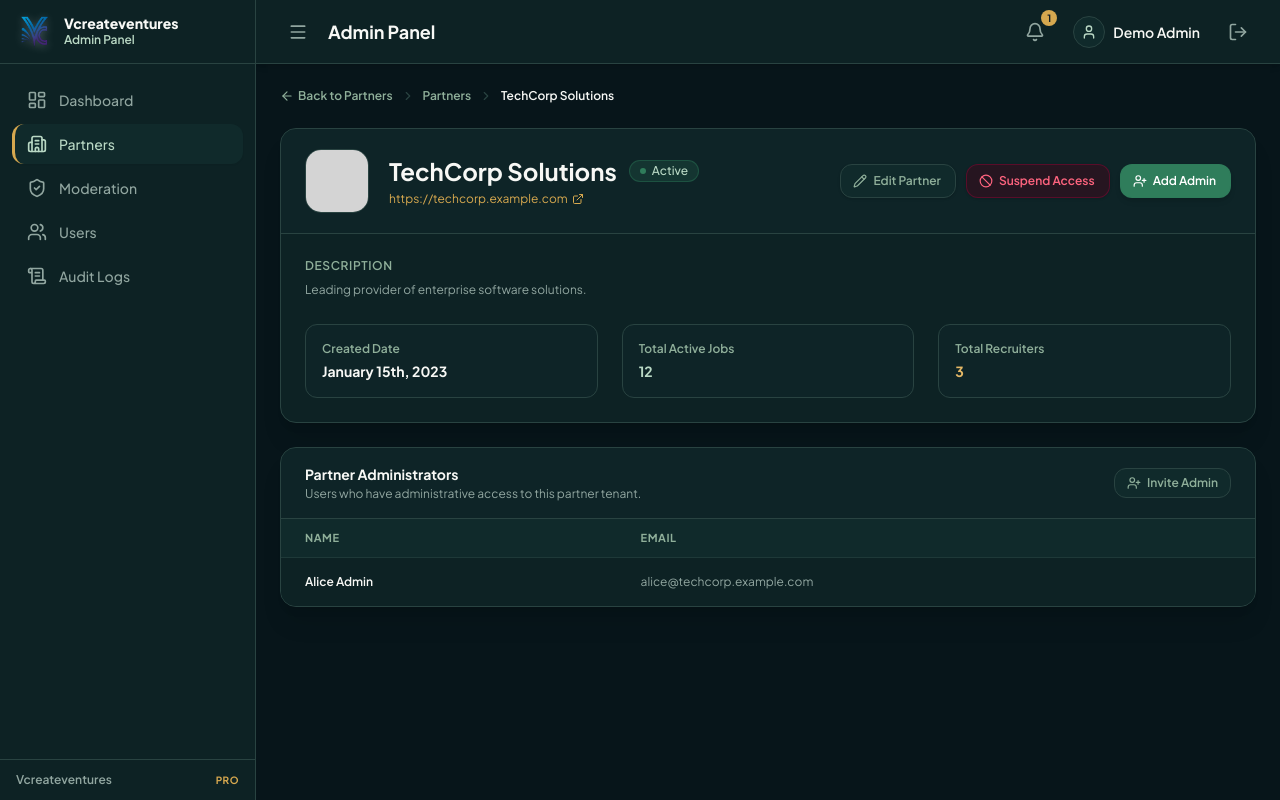
it: routes rendering test › shows backend validation details when a partner admin email already exists
Click the button "Add Admin".
click(1175, 181)  # box [1120, 164, 1231, 198]
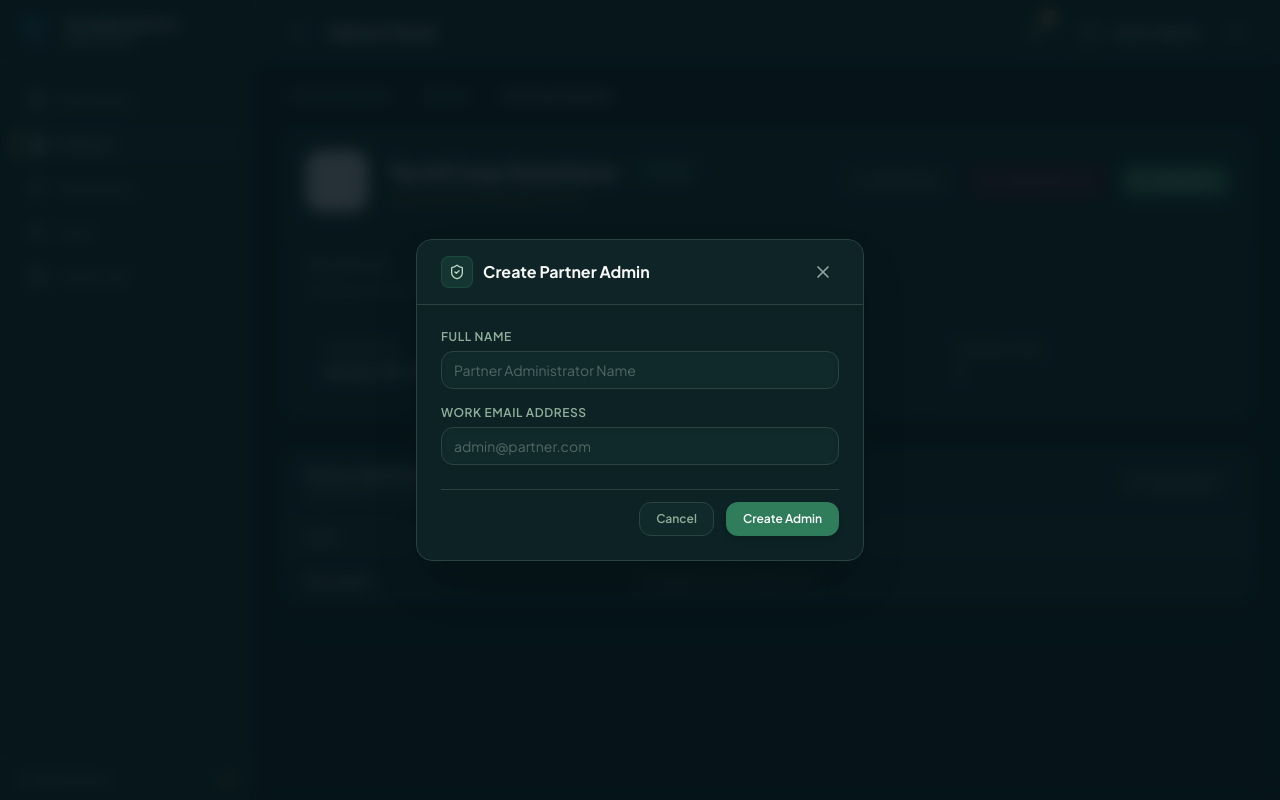
Type "Another Admin" into the field labelled "Full Name".
click(640, 370); type("Another Admin")  # box [441, 351, 839, 389]
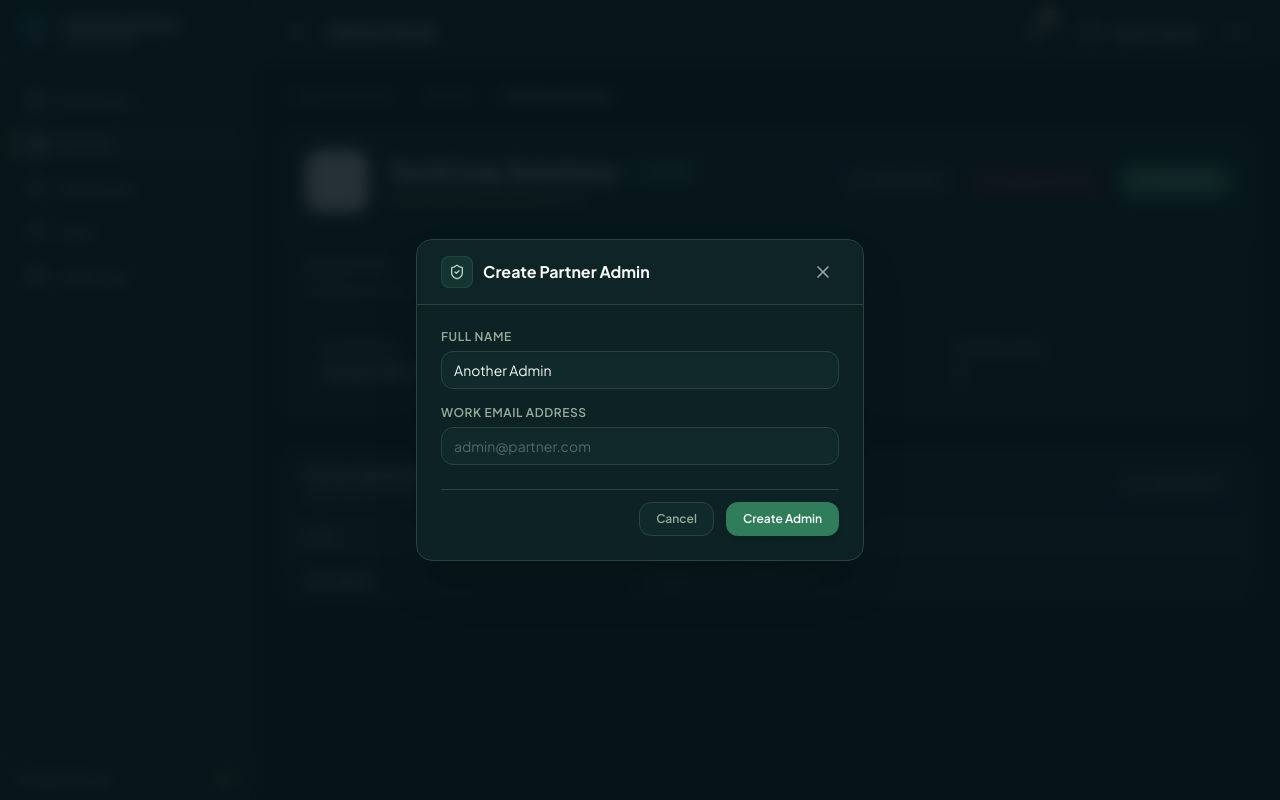
Type "existing@partner.example" into the field labelled "Work Email Address".
click(640, 446); type("existing@partner.example")  # box [441, 427, 839, 465]
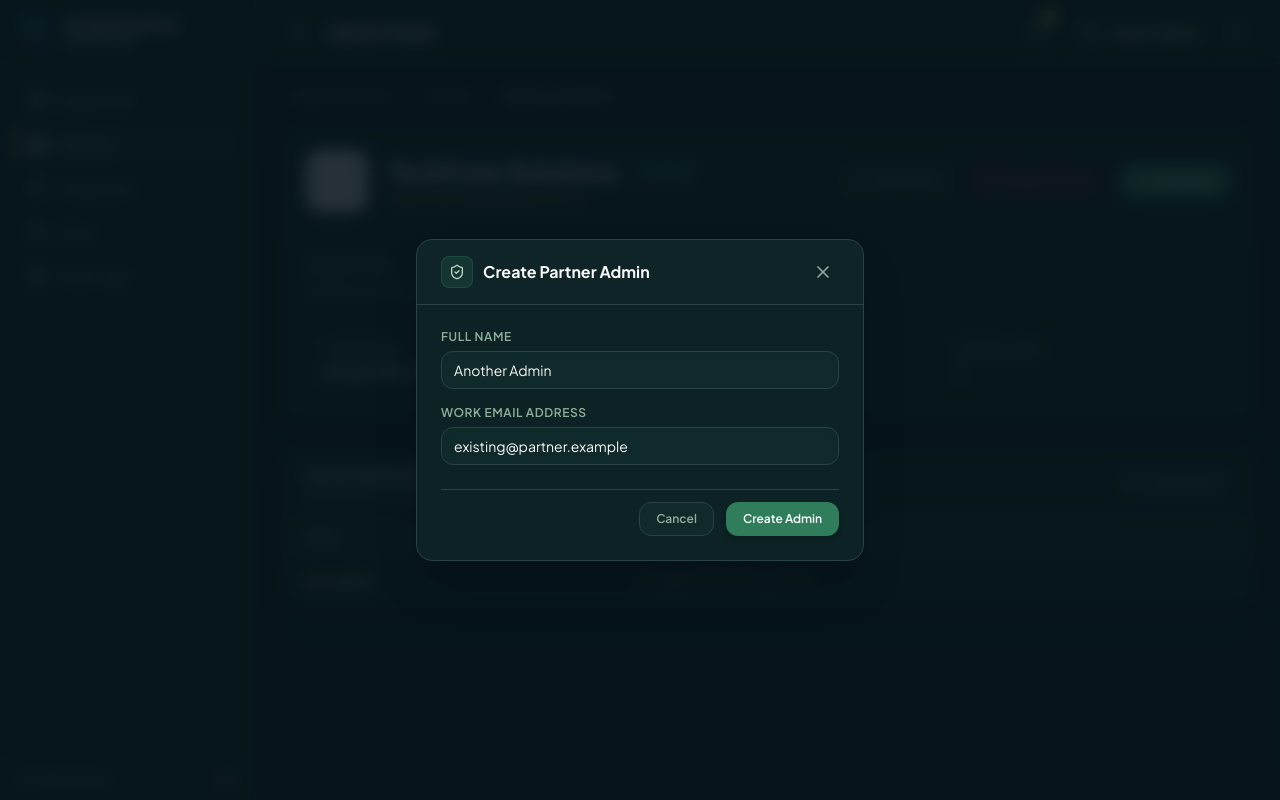
Click the button "Create Admin".
click(782, 519)  # box [726, 502, 839, 536]
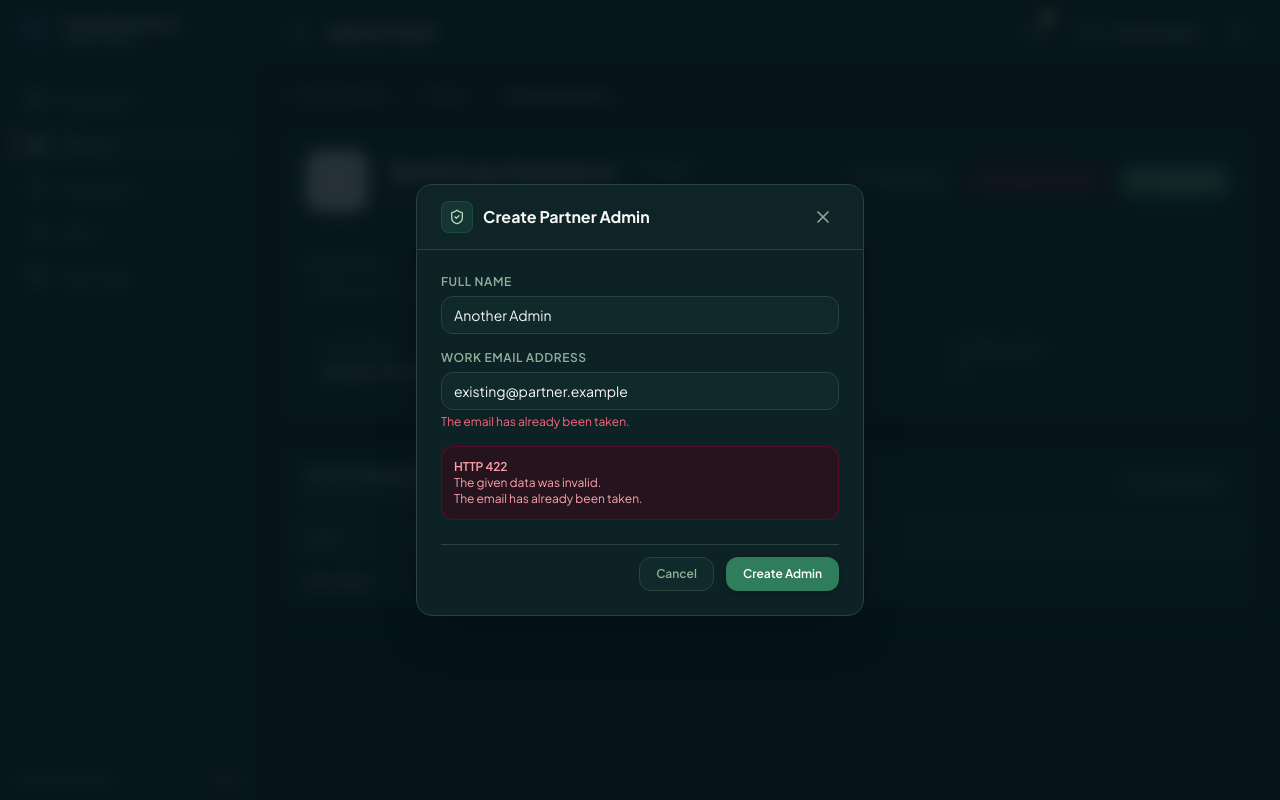
Expected: the message shows "HTTP 422", [454, 459, 508, 474]
Expected: the message shows "The email has already been taken.", [454, 491, 642, 506]
Expected: the text "The email has already been taken." is shown 2 times, [441, 414, 630, 429]; [454, 491, 642, 506]
